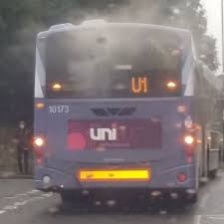smoke: (81, 13, 125, 95)
